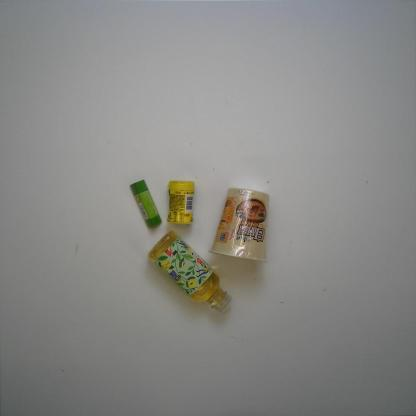Drink: (147, 229, 233, 314)
Gum: (166, 180, 196, 225)
Instant Noodles: (208, 188, 270, 264)
Stationery: (129, 179, 162, 228)
